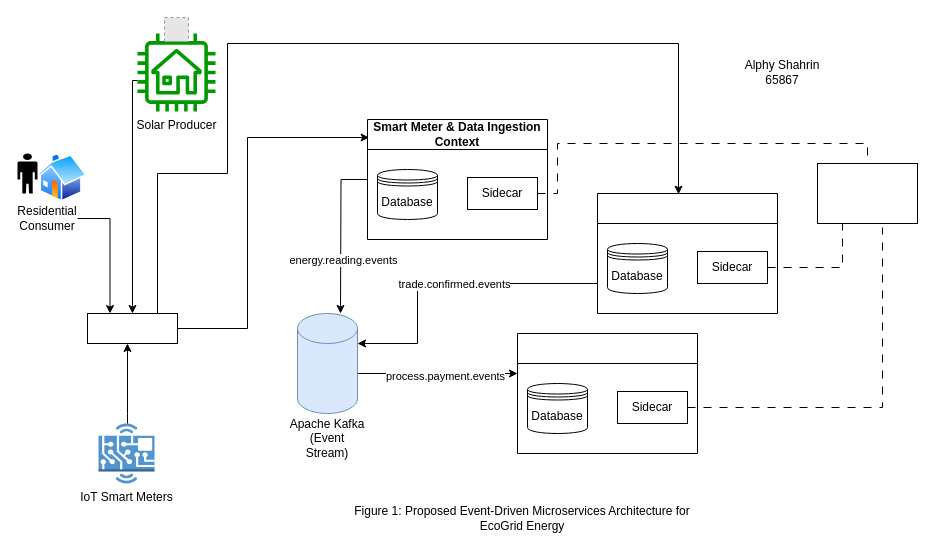
Image size: 935x551. Some labels were removed from this diagram. Grey dashed boxes stand in for pictures. Each missing label, with the box of its shape:
API Gateway: (86, 312, 178, 344)
Energy Marketplace Context: (596, 192, 778, 314)
Financial Settlement Context: (516, 332, 698, 454)
Observability Stack: (816, 162, 918, 224)
